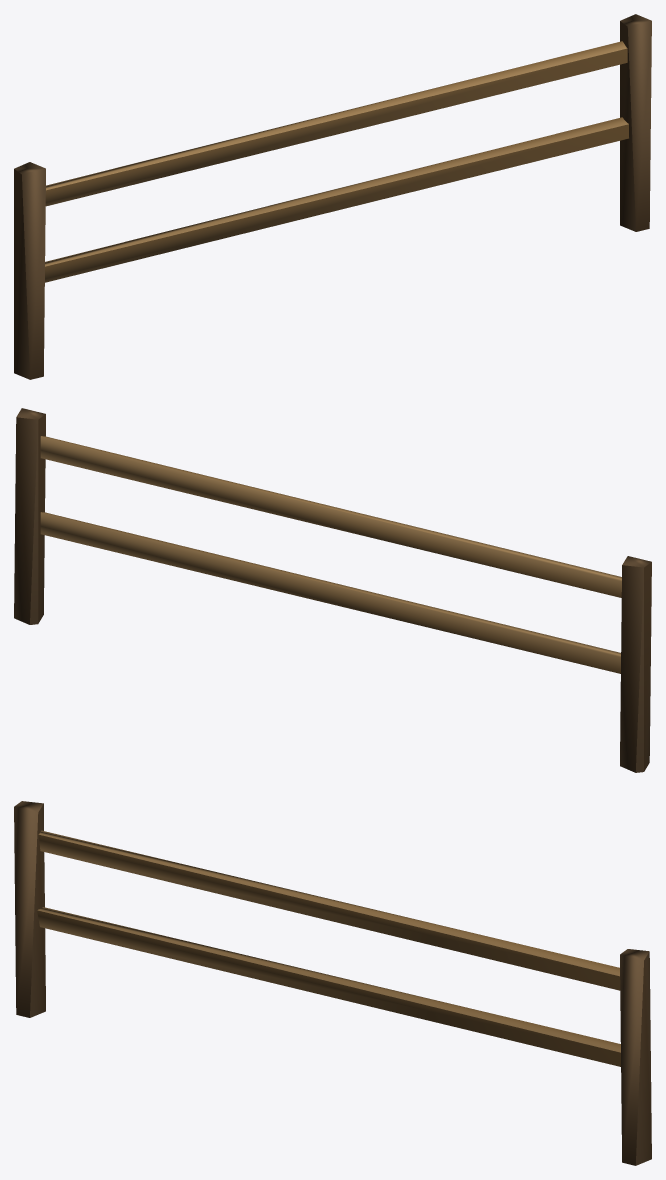
File: fence-v1.lod2.glb
3 views of the same model, one above another, from view 1: azimuth 30°, elevation 25°; view 2: azimuth 150°, elevation 25°; view 3: azimuth 330°, elevation 25° (orthographic).
Parts seen in each view (by area): view 1: fence-v1.lod2; view 2: fence-v1.lod2; view 3: fence-v1.lod2.
Part boxes in pixels (<box>): fence-v1.lod2: <box>14,14,651,379</box>; fence-v1.lod2: <box>14,408,651,772</box>; fence-v1.lod2: <box>14,801,651,1165</box>.
Bounding box in the file's own units: 4.16 × 1.29 × 0.16.
